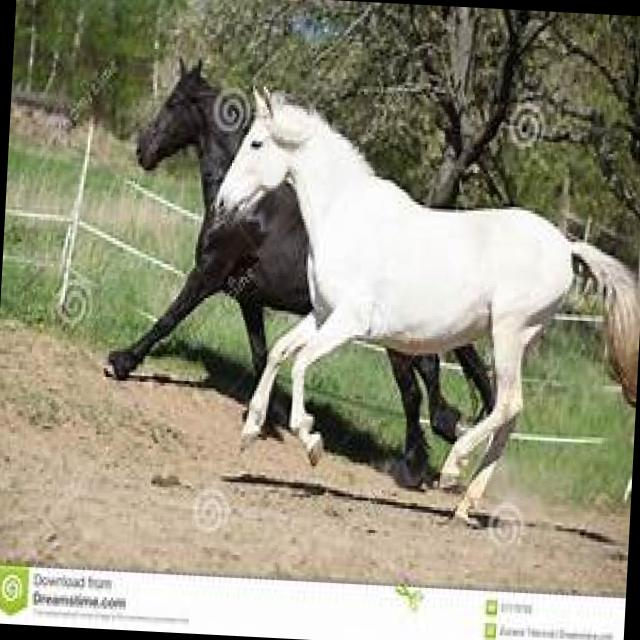horse: (195, 90, 640, 529), (104, 69, 512, 490)
